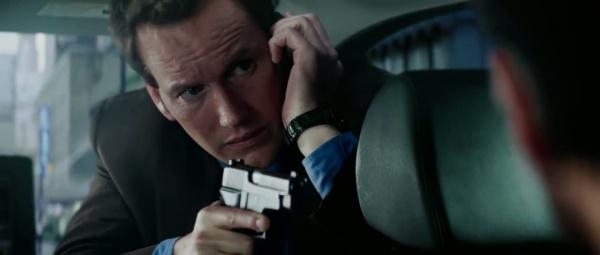Gun: (220, 160, 306, 237)
